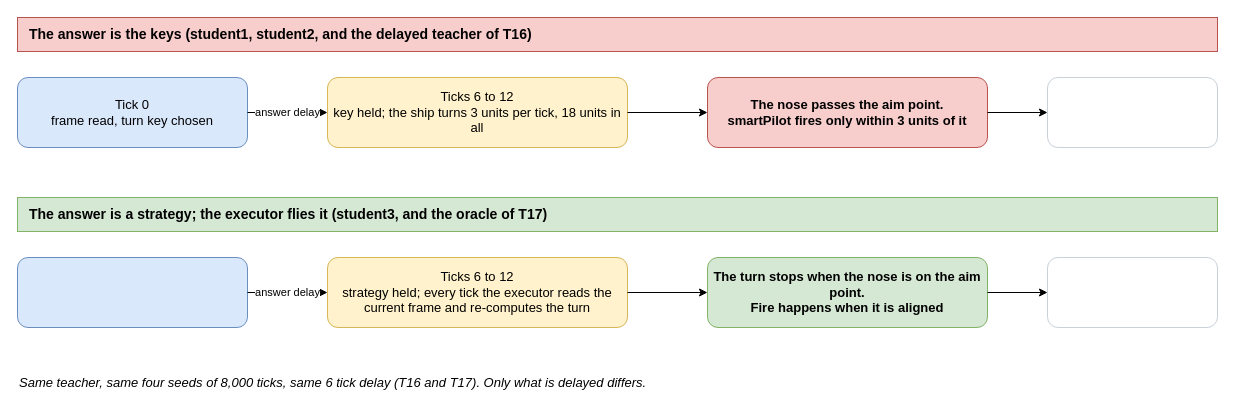
Image size: 1235x415. Some labels were removed from this diagram. The shapes that lost their labels are listed below. From the top down, each one's box as (x1, y1, x2, y2) in pixels, then its label:
(1046, 76, 1218, 148): Result at 0.10 s: turning 84.9%, firing 4.0%, 680 points per minute
(16, 256, 248, 328): Tick 0 frame read, strategy chosen (for example aim)
(1046, 256, 1218, 328): Result at 0.10 s: turning 45.2%, firing 26.5%, 10,286 points per minute
